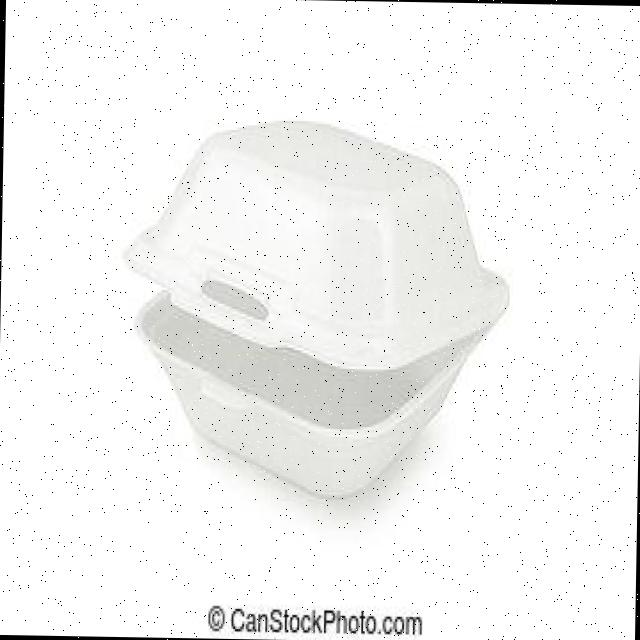styrofoam: (118, 112, 512, 502)
